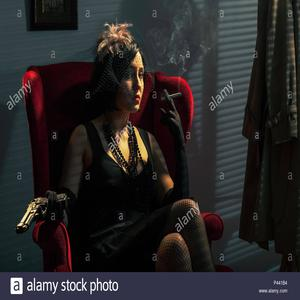cigarette: (156, 90, 180, 102)
